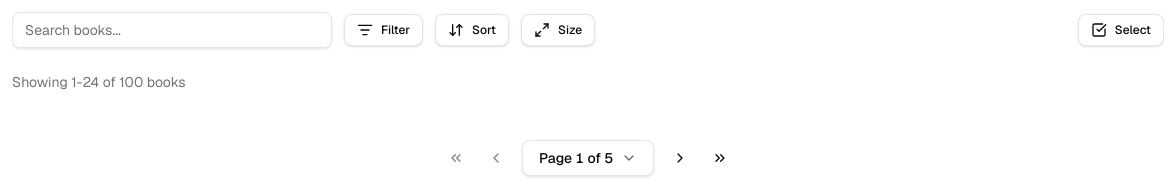
Test case: Home background refetch › shows the spinner, not the previous page, while the next page loads
This screenshot has width=1176, height=194.
expect the text "Showing 1-24 of 100 books" is shown: met, box [12,73,186,91]
Click the button named "Go to next page" at point(680, 158), box [662,140,698,176]
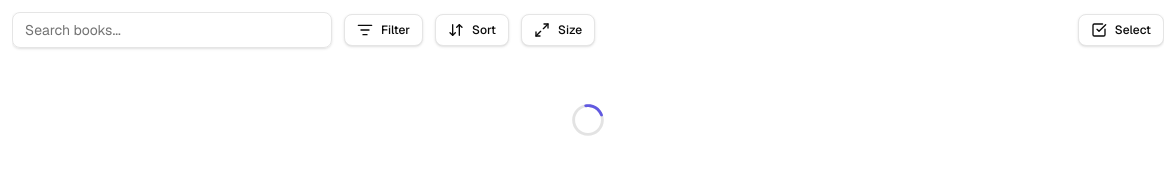
expect the text "Showing 1" is gone: met
